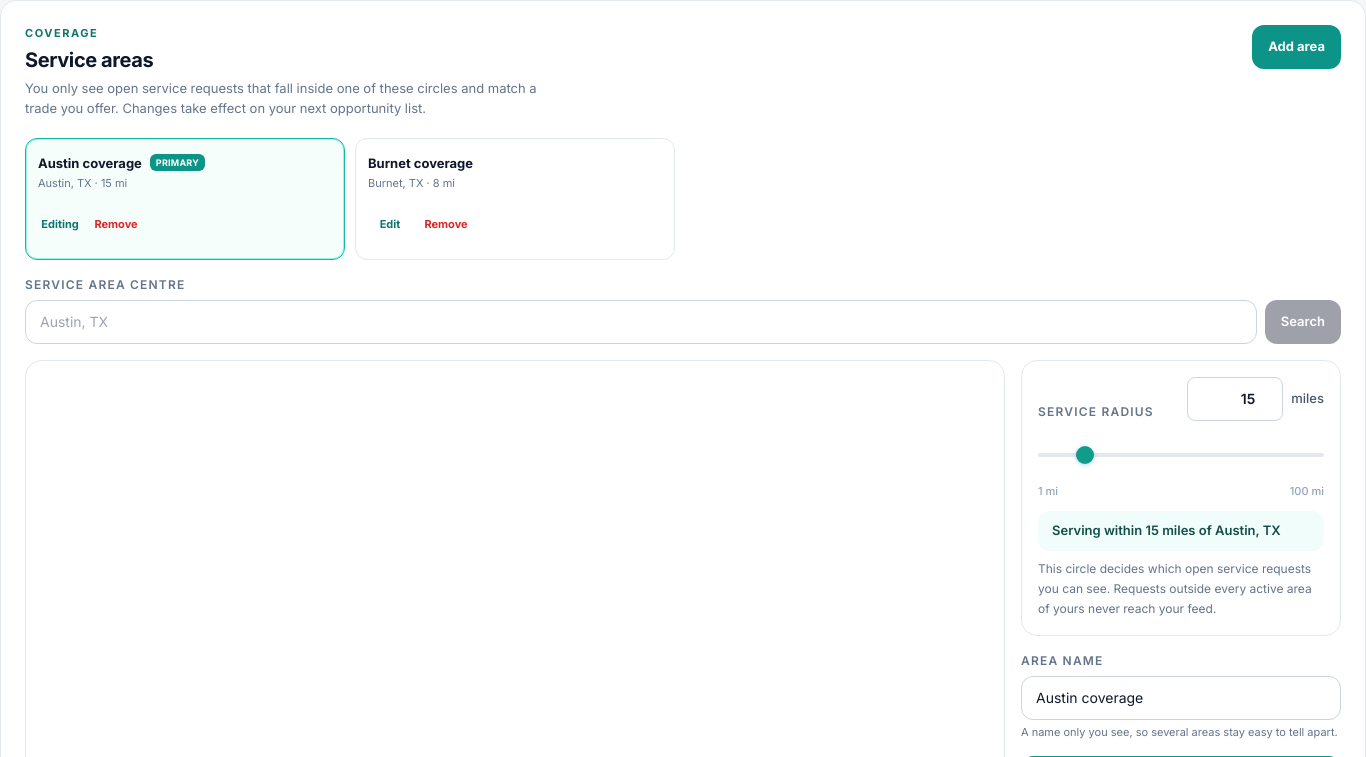
coverage editor asynchronous draft ownership › does not show stale address suggestions in a newly selected area's editor
The image size is (1366, 757).
expect the button with aria-label "Edit Austin coverage" is shown: met, box [38,150,332,194]
Type "Delayed Dallas address" into the dropdown labelled "Service area centre".
click(641, 322); type("Delayed Dallas address")  # box [25,300,1257,344]
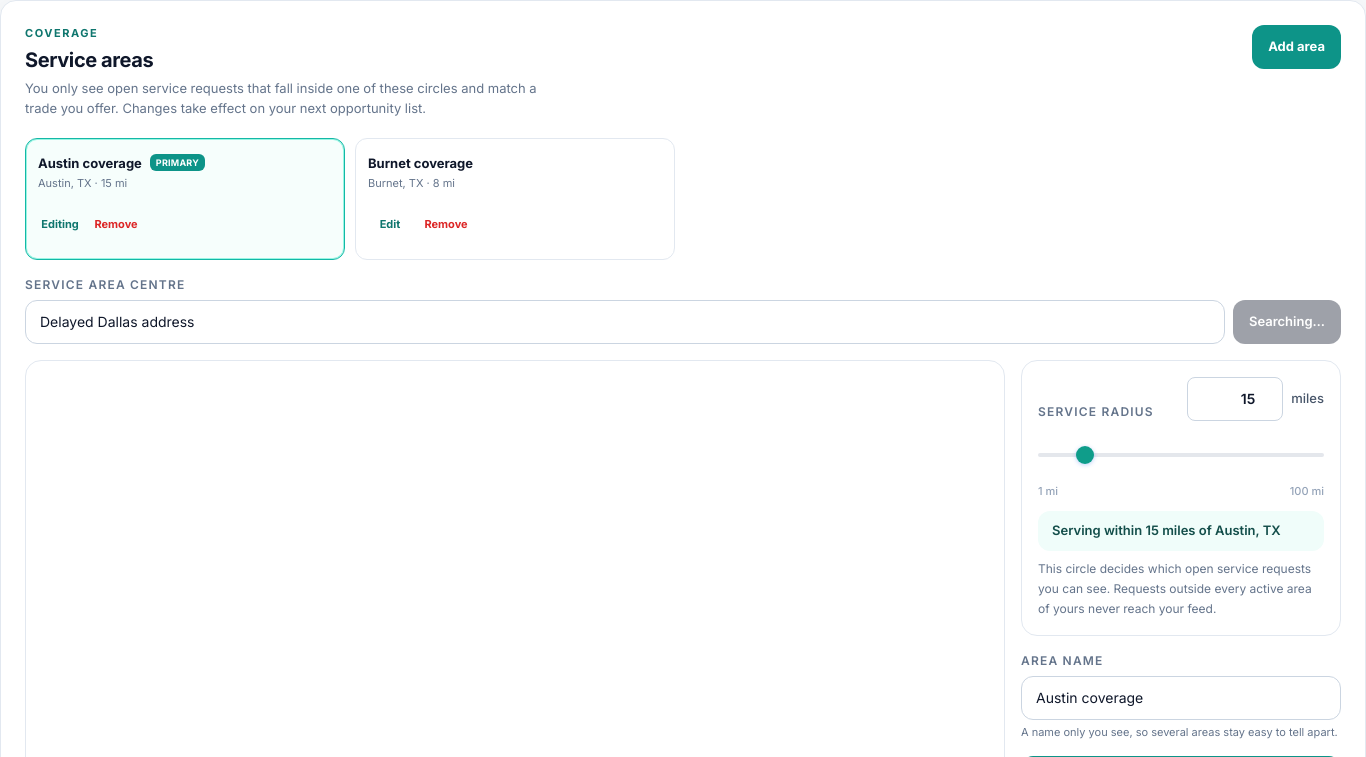
Click the button with aria-label "Edit Burnet coverage".
click(421, 162)  # box [368,150,662,194]
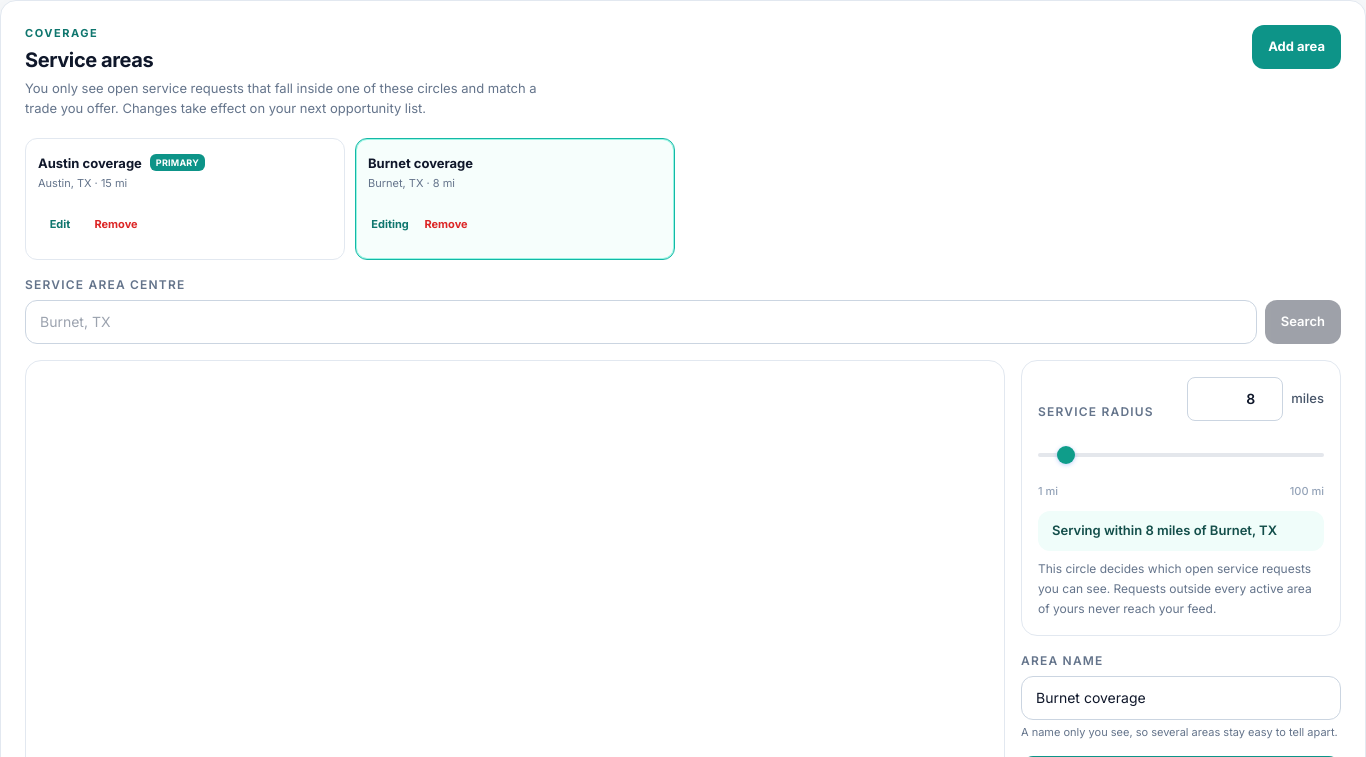
expect the button "Searching…" is gone: met
expect the dropdown labelled "Service area centre" is empty: met, box [25,300,1257,344]
